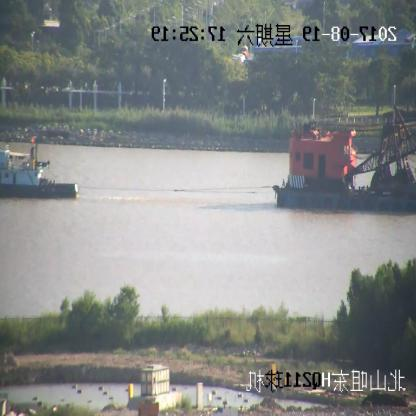Fishing Boat: (273, 106, 416, 210), (1, 146, 79, 199)
